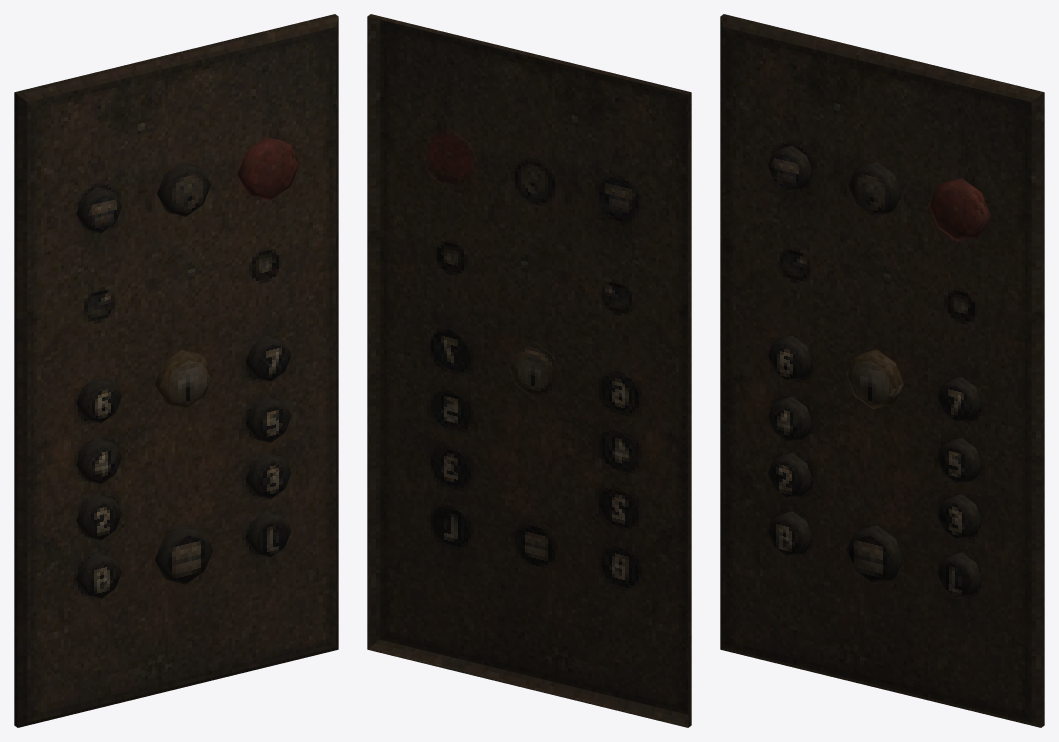
Rendered from elevator_buttons_1.glb.
The picture shows the model from 3 angles, left to right: view 1: azimuth 30°, elevation 25°; view 2: azimuth 150°, elevation 25°; view 3: azimuth 330°, elevation 25°; orthographic projection.
Parts seen in each view (by area): view 1: elevator_buttons_1; view 2: elevator_buttons_1; view 3: elevator_buttons_1.
Boxes of the visible parts, x1,y1,x2,y2 form: elevator_buttons_1: (14,14,338,727); elevator_buttons_1: (367,14,691,727); elevator_buttons_1: (720,14,1044,727).
Size of the model in its own units: 0.2652 by 0.5 by 0.0196.
1 material, 1 textured.
